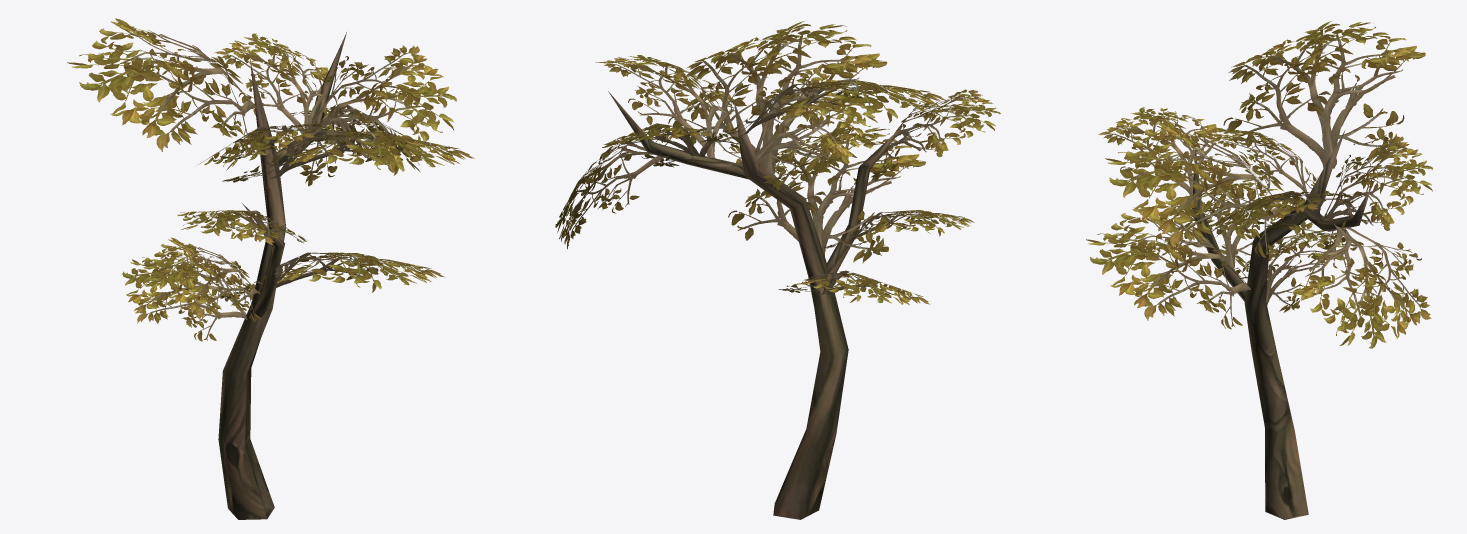
The model's file is SL_shu05.FBX.
3 renders of one model, left to right at view 1: azimuth 30°, elevation 25°; view 2: azimuth 150°, elevation 25°; view 3: azimuth 270°, elevation 25°, orthographic. The views are drawn at different scales.
Visible parts, largest first — view 1: Cylinder12, Plane53, Plane48, Plane46, Plane47, Plane50, Plane52, Plane49, Plane51, Plane44, Plane45; view 2: Cylinder12, Plane46, Plane49, Plane44, Plane53, Plane48, Plane51, Plane45, Plane52, Plane47, Plane50; view 3: Cylinder12, Plane53, Plane46, Plane45, Plane49, Plane47, Plane51, Plane48, Plane52, Plane44, Plane50.
Boxes of the visible parts, x1,y1,x2,y2 form: Cylinder12: (218,32,346,519); Plane53: (67,18,260,154); Plane48: (299,45,456,186); Plane46: (222,131,474,182); Plane47: (213,33,343,145); Plane50: (141,237,261,321); Plane52: (122,243,255,341); Plane49: (220,252,444,298); Plane51: (177,210,306,245); Plane44: (198,123,323,170); Plane45: (290,105,426,172); Cylinder12: (608,91,902,519); Plane46: (668,21,886,175); Plane49: (728,125,925,263); Plane44: (752,67,877,190); Plane53: (700,80,946,142); Plane48: (595,55,741,164); Plane51: (871,89,1000,181); Plane45: (555,122,681,249); Plane52: (778,270,930,305); Plane47: (602,123,742,167); Plane50: (822,210,974,248); Cylinder12: (1192,130,1371,519); Plane53: (1223,21,1425,168); Plane46: (1105,121,1291,257); Plane45: (1288,220,1431,348); Plane49: (1086,206,1251,329); Plane47: (1320,136,1432,256); Plane51: (1098,107,1236,195); Plane48: (1207,191,1355,237); Plane52: (1235,230,1345,312); Plane44: (1208,128,1329,198); Plane50: (1164,179,1283,268).
Size of the model in its own units: 252 by 272 by 229.
